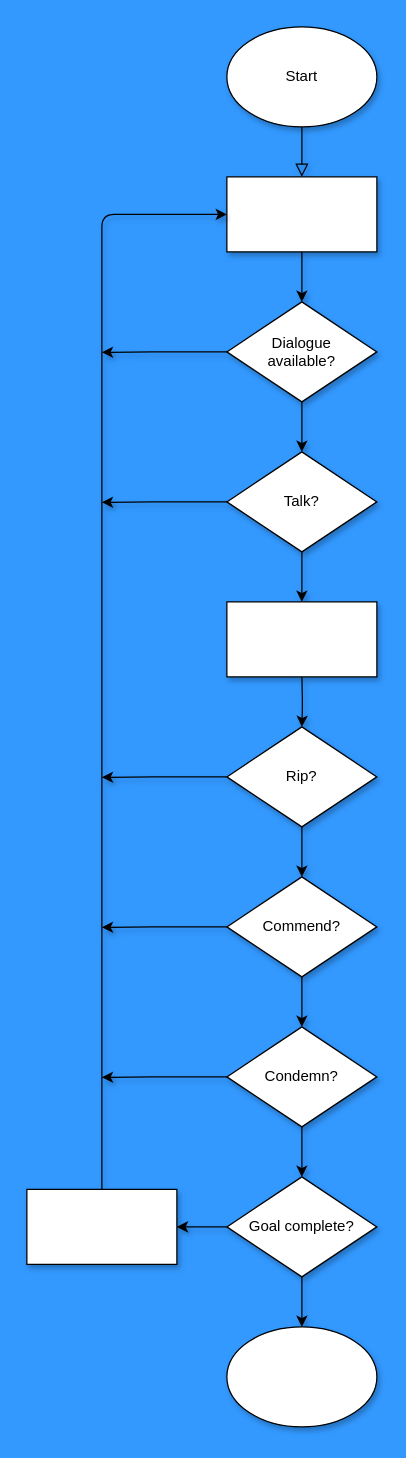
The diagram is 406 pixels wide and 1458 high, and some of its shapes have lost their labels. The centre of each missing label's shape, as x and y in pixels:
Choose location: (x=302, y=216)
Display progress: (x=102, y=1228)
Request last words: (x=302, y=641)
Summary Game over: (x=302, y=1378)
